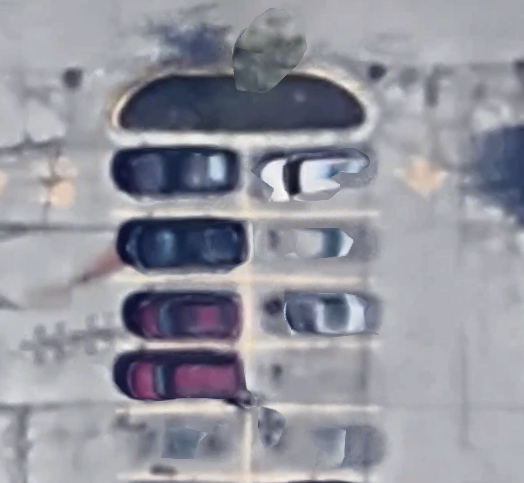Occupied: (115, 136, 247, 214), (247, 136, 377, 215), (247, 408, 378, 479), (115, 410, 247, 477), (113, 280, 248, 344), (114, 216, 247, 279), (113, 346, 247, 408), (248, 215, 374, 280), (248, 280, 375, 344)
Vacant: (247, 345, 377, 408)
